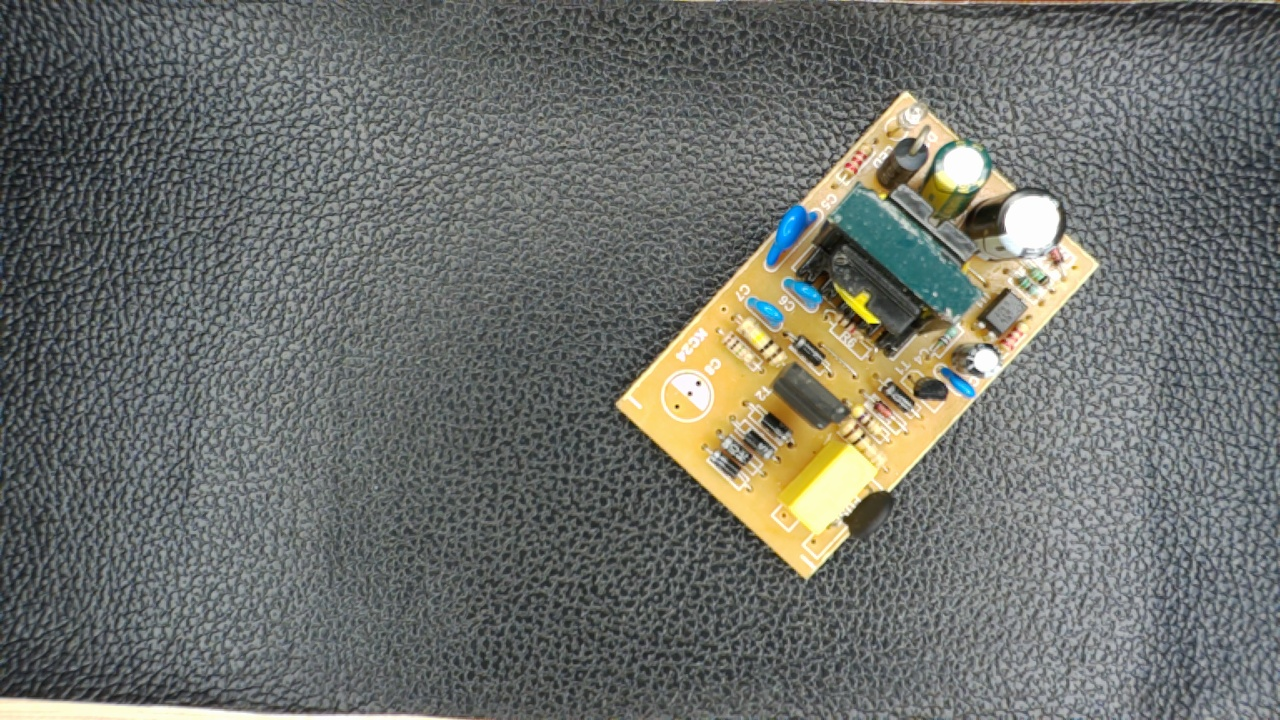fuse: (833, 486, 903, 542)
mov: (761, 201, 821, 270)
optocoupler: (974, 284, 1028, 342)
